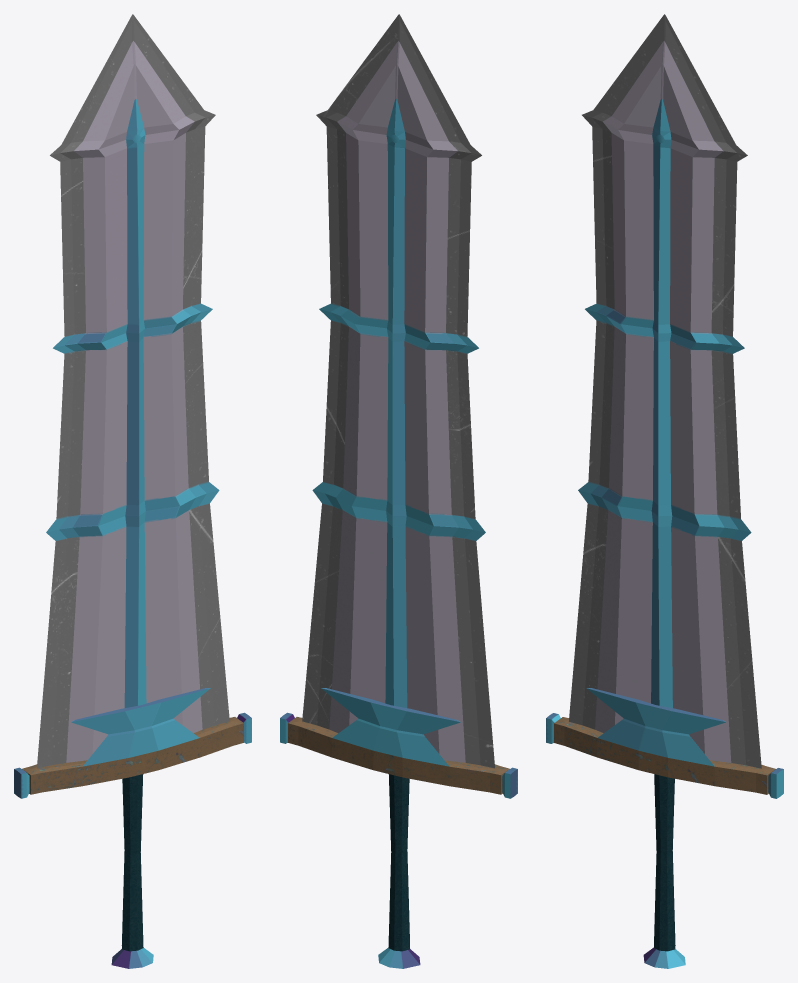
Rendered from espada3.fbx.
3 renders of one model, left to right at view 1: azimuth 30°, elevation 25°; view 2: azimuth 150°, elevation 25°; view 3: azimuth 330°, elevation 25°, orthographic.
Parts seen in each view (by area): view 1: Espada_3; view 2: Espada_3; view 3: Espada_3.
Part boxes in pixels (box(x1,y1,x2,y2)): Espada_3: box(14, 14, 251, 968); Espada_3: box(280, 14, 517, 968); Espada_3: box(546, 14, 783, 968).
Size of the model in its own units: 29.04 by 114 by 4.9.
